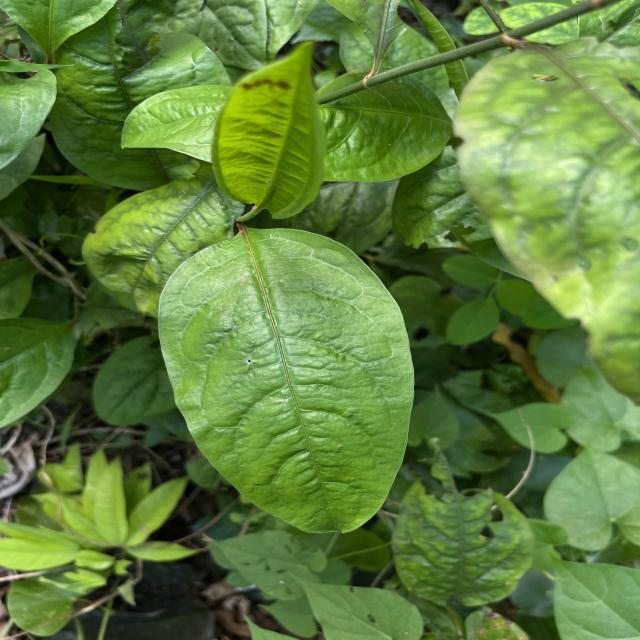Plumbago indica: (151, 221, 422, 541), (199, 34, 330, 230)
